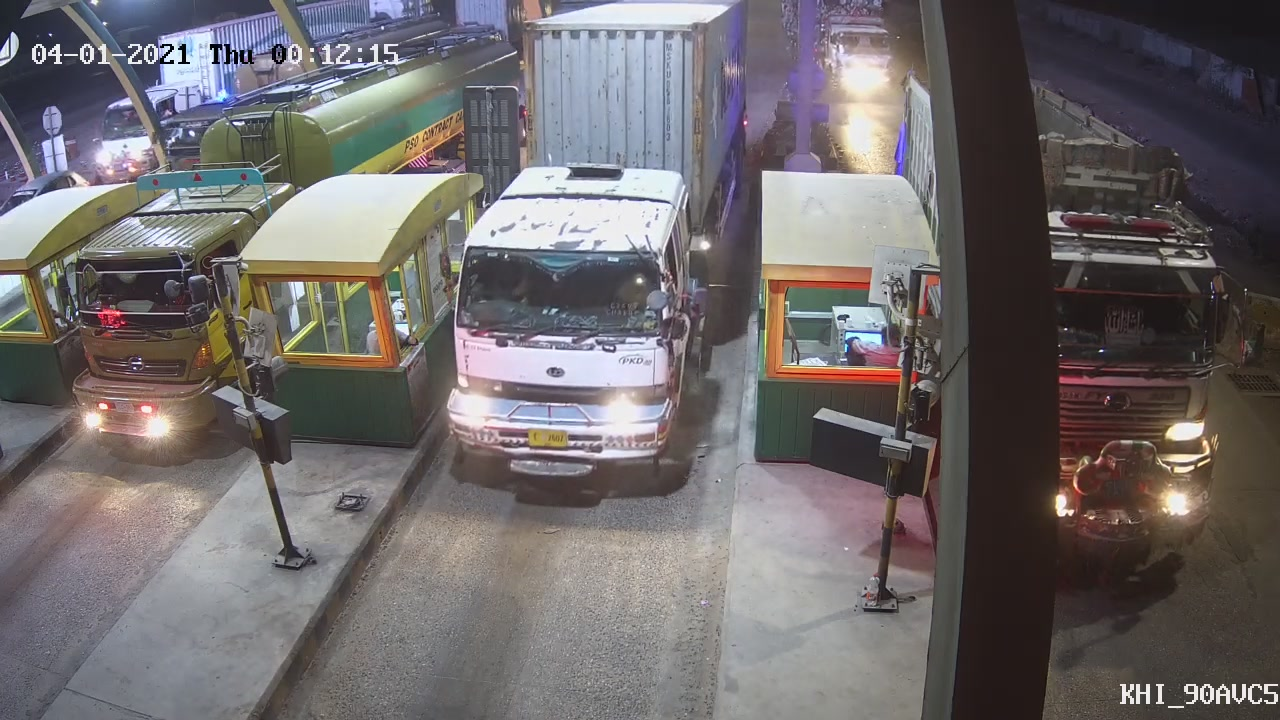F5: (441, 16, 726, 502)
